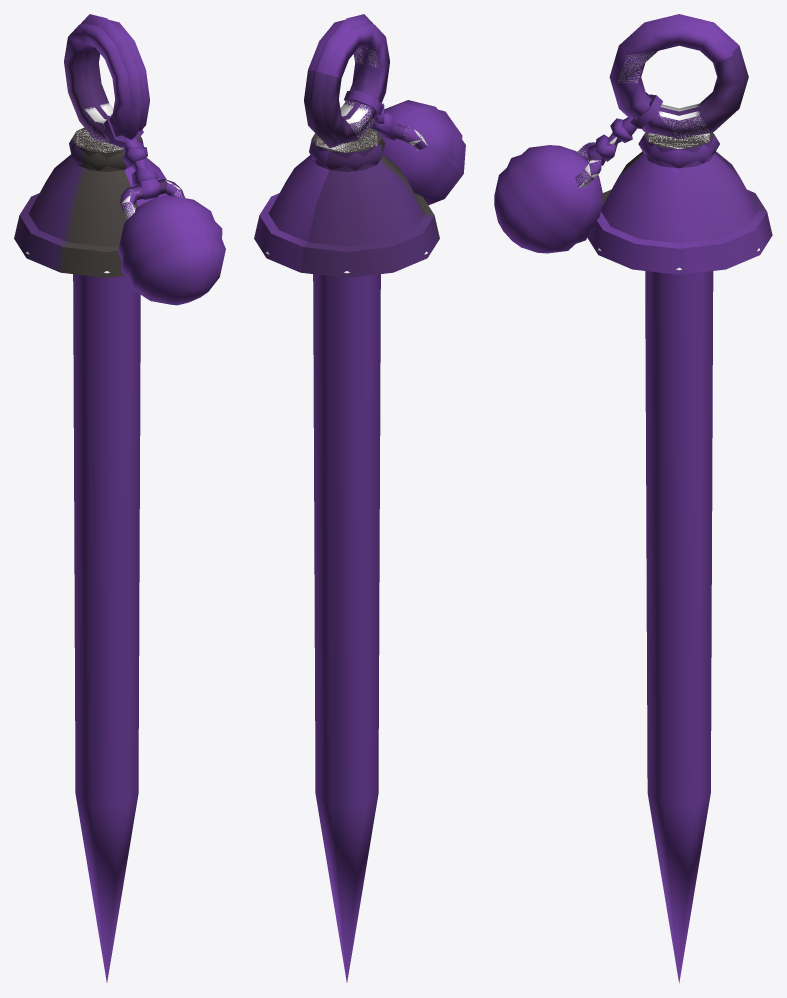
Rendered from objects_un_slshrine01_pile_se.gltf.
3 renders of one model, left to right at view 1: azimuth 30°, elevation 25°; view 2: azimuth 150°, elevation 25°; view 3: azimuth 270°, elevation 25°, orthographic.
Parts seen in each view (by area): view 1: um_objects_un_slshrine01_pile_se_model_lod0Shape:objects_un_ (×2), um_objects_un_slshrine01_pile_se_model_lod1Shape:objects_un_; view 2: um_objects_un_slshrine01_pile_se_model_lod0Shape:objects_un_ (×2), um_objects_un_slshrine01_pile_se_model_lod1Shape:objects_un_; view 3: um_objects_un_slshrine01_pile_se_model_lod0Shape:objects_un_ (×2), um_objects_un_slshrine01_pile_se_model_lod1Shape:objects_un_.
Boxes of the visible parts, bbox=[...] form: um_objects_un_slshrine01_pile_se_model_lod0Shape:objects_un_ (×2): bbox=[14, 20, 225, 982]; um_objects_un_slshrine01_pile_se_model_lod1Shape:objects_un_: bbox=[69, 14, 222, 279]; um_objects_un_slshrine01_pile_se_model_lod0Shape:objects_un_ (×2): bbox=[254, 20, 465, 982]; um_objects_un_slshrine01_pile_se_model_lod1Shape:objects_un_: bbox=[309, 14, 462, 200]; um_objects_un_slshrine01_pile_se_model_lod0Shape:objects_un_ (×2): bbox=[494, 24, 772, 983]; um_objects_un_slshrine01_pile_se_model_lod1Shape:objects_un_: bbox=[506, 14, 748, 243].
Size of the model in its own units: 0.3851 by 2.21 by 0.5735.
2 materials, 1 textured.
